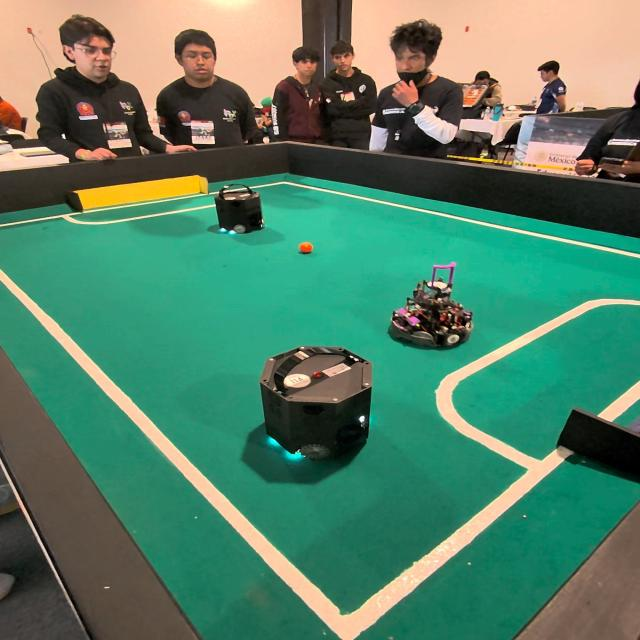Robot: (255, 330, 372, 488), (391, 276, 475, 353), (210, 180, 268, 244)
pelota: (300, 243, 314, 253)
